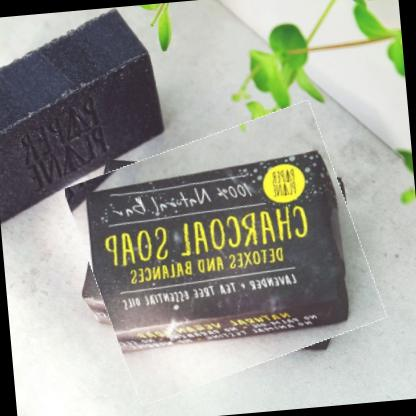soap: (72, 110, 379, 395)
